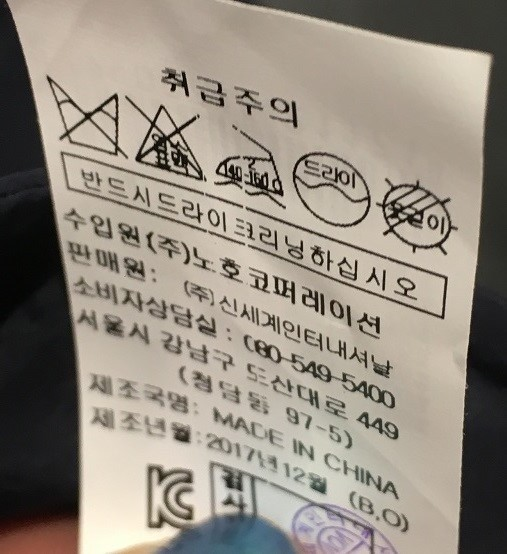KR_dry_clean: (293, 146, 375, 227)
KR_hang_dry_in_shade: (376, 176, 461, 255)
KR_iron_medium_temp_with_cloth: (212, 120, 291, 209)
KR_no_chlorine_bleach: (136, 101, 207, 177)
KR_no_wash: (53, 75, 128, 150)
